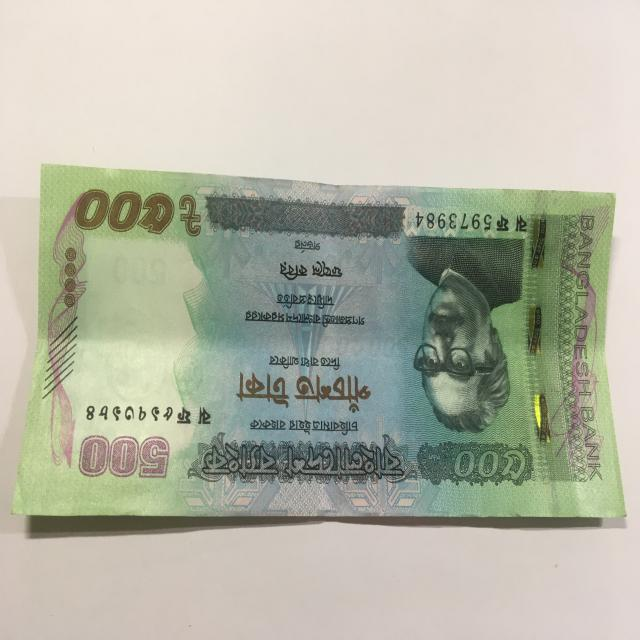Taka: (22, 144, 634, 532)
